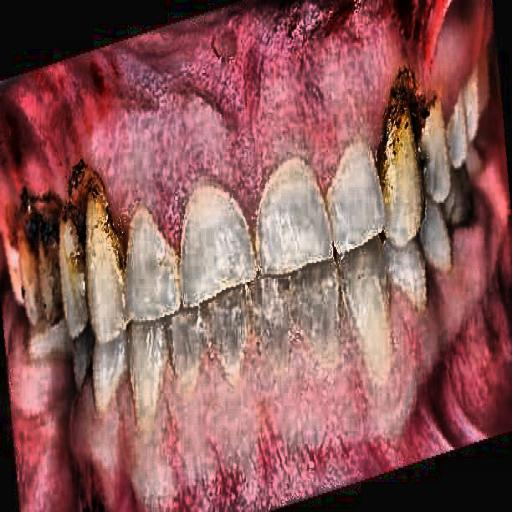Gingivitis: (8, 72, 261, 252), (225, 32, 408, 168)
